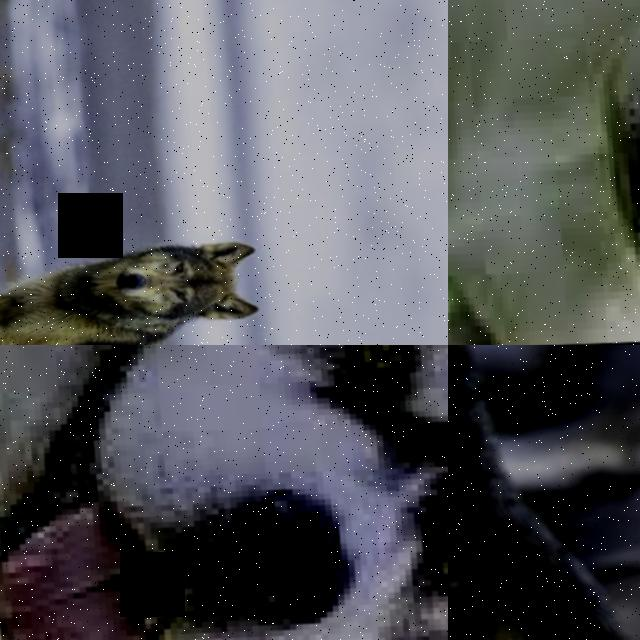dog: (0, 345, 448, 640), (448, 0, 640, 345)
wolf: (448, 345, 640, 640), (0, 220, 289, 345)
